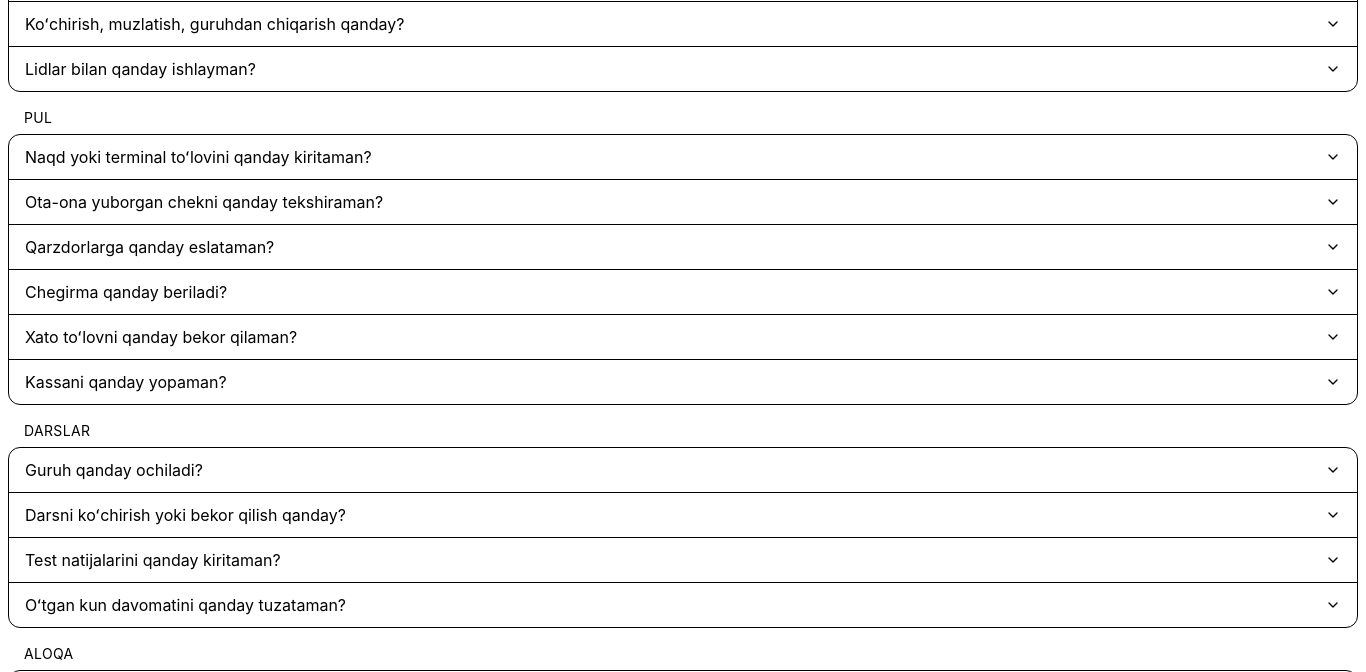
Scenario: MS-34 Yordam (T-163) › savol bosilsa qadamlar ochiladi, yana bosilsa yopiladi
This screenshot has width=1366, height=672.
(page scrolled)
Click the button "Kassani qanday yopaman?" at (126, 382), box [9,360,1357,404]
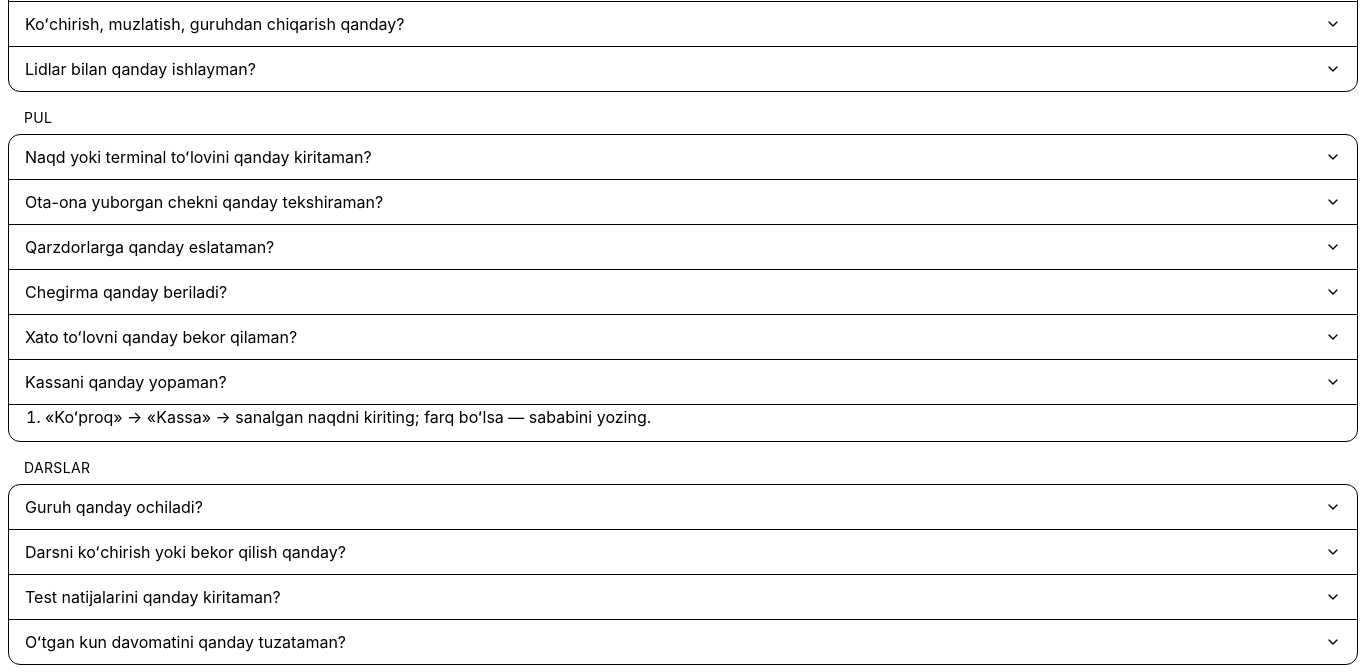
Check: the list item "sanalgan naqdni kiriting" is shown, box [45,407,651,427]
Click the button "Kassani qanday yopaman?" at (126, 382), box [9,360,1357,404]
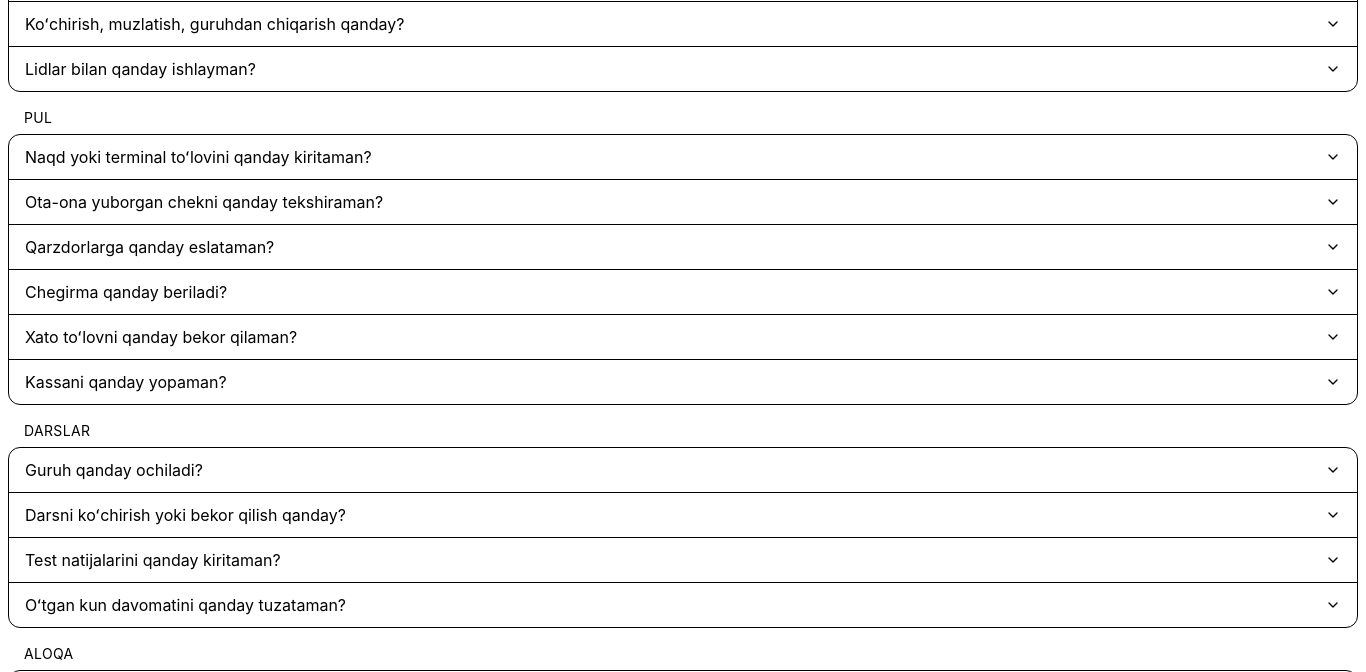
Check: the list item "sanalgan naqdni kiriting" is gone
